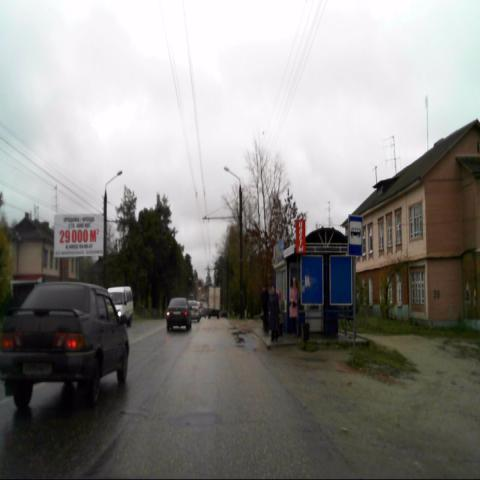5_16: (348, 215, 363, 256)
